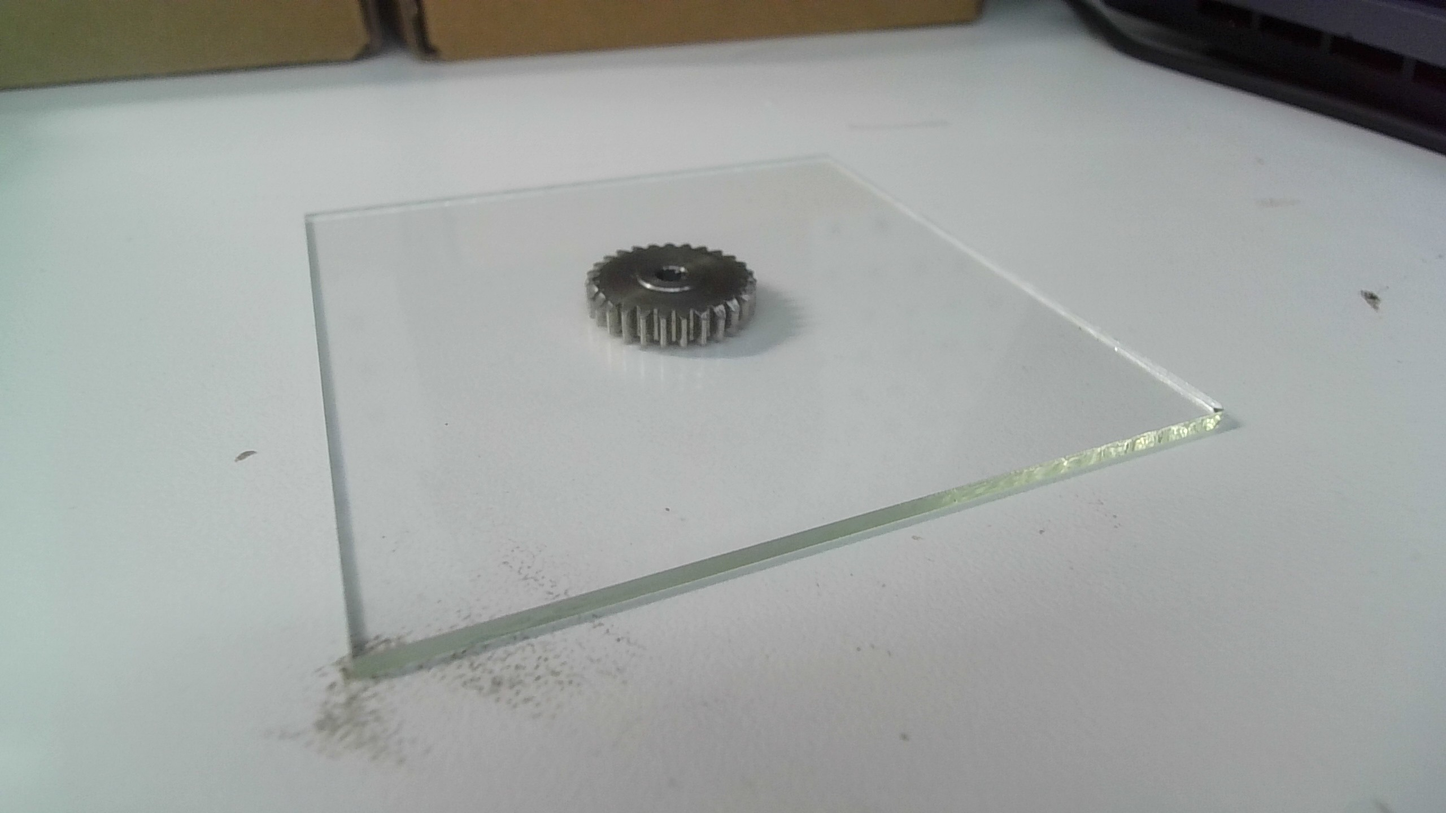gear: (581, 239, 761, 353)
